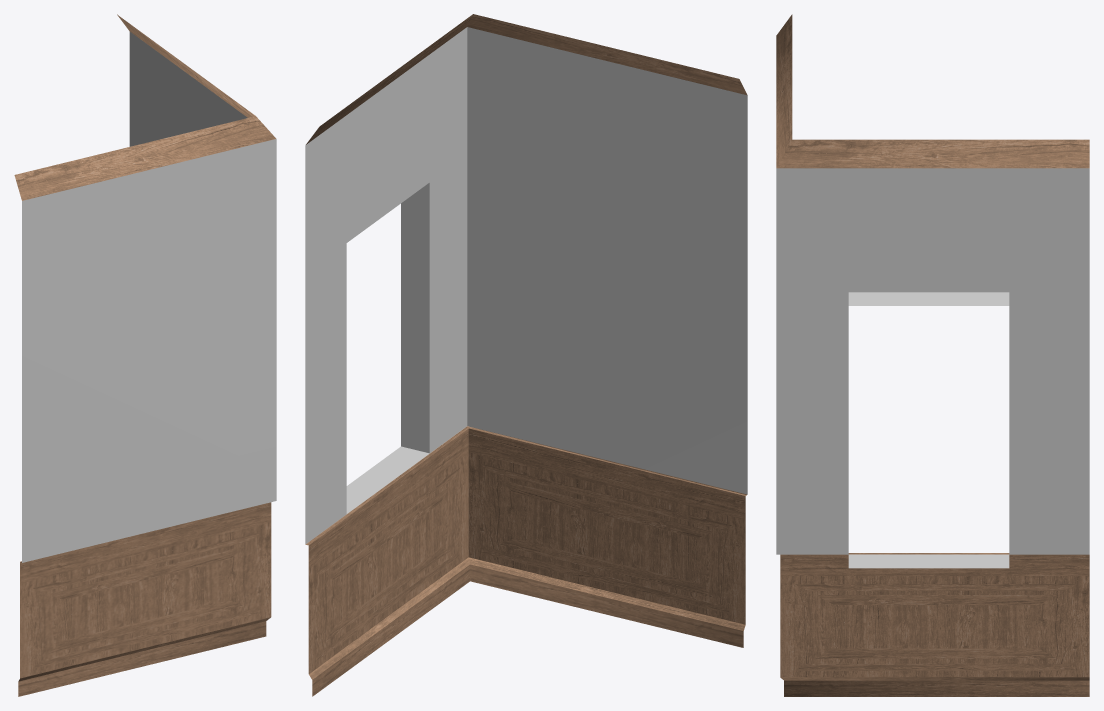
The model's file is WallIntWindowCornerinside1A.fbx.
3 views of the same model, side by side, from view 1: azimuth 30°, elevation 25°; view 2: azimuth 150°, elevation 25°; view 3: azimuth 270°, elevation 25° (orthographic). The views are drawn at different scales.
Visible parts, largest first — view 1: WallIntWindowCornerinside1A; view 2: WallIntWindowCornerinside1A; view 3: WallIntWindowCornerinside1A.
Part boxes in pixels (x1,y1,x2,y2): WallIntWindowCornerinside1A: (14, 14, 276, 696); WallIntWindowCornerinside1A: (305, 14, 747, 696); WallIntWindowCornerinside1A: (776, 14, 1089, 696).
Size of the model in its own units: 215 by 380 by 195.
